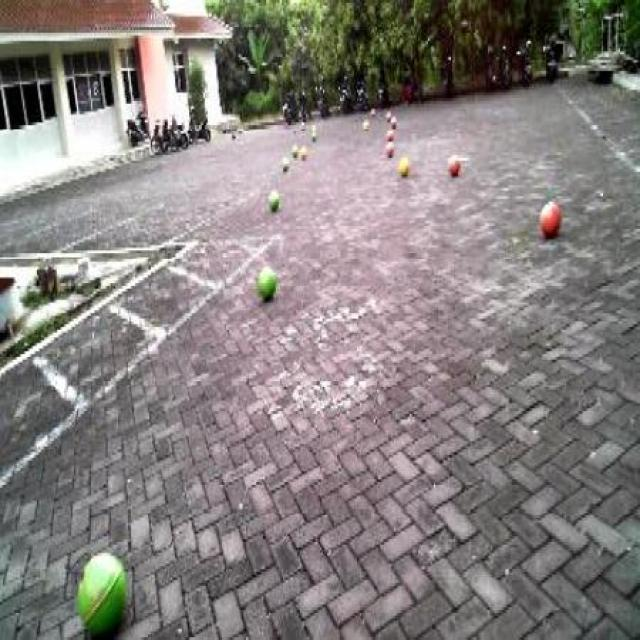buoy: (66, 534, 140, 634), (534, 193, 568, 245), (252, 254, 280, 308), (263, 177, 285, 223), (442, 150, 468, 186), (394, 148, 414, 188), (275, 146, 291, 178)
